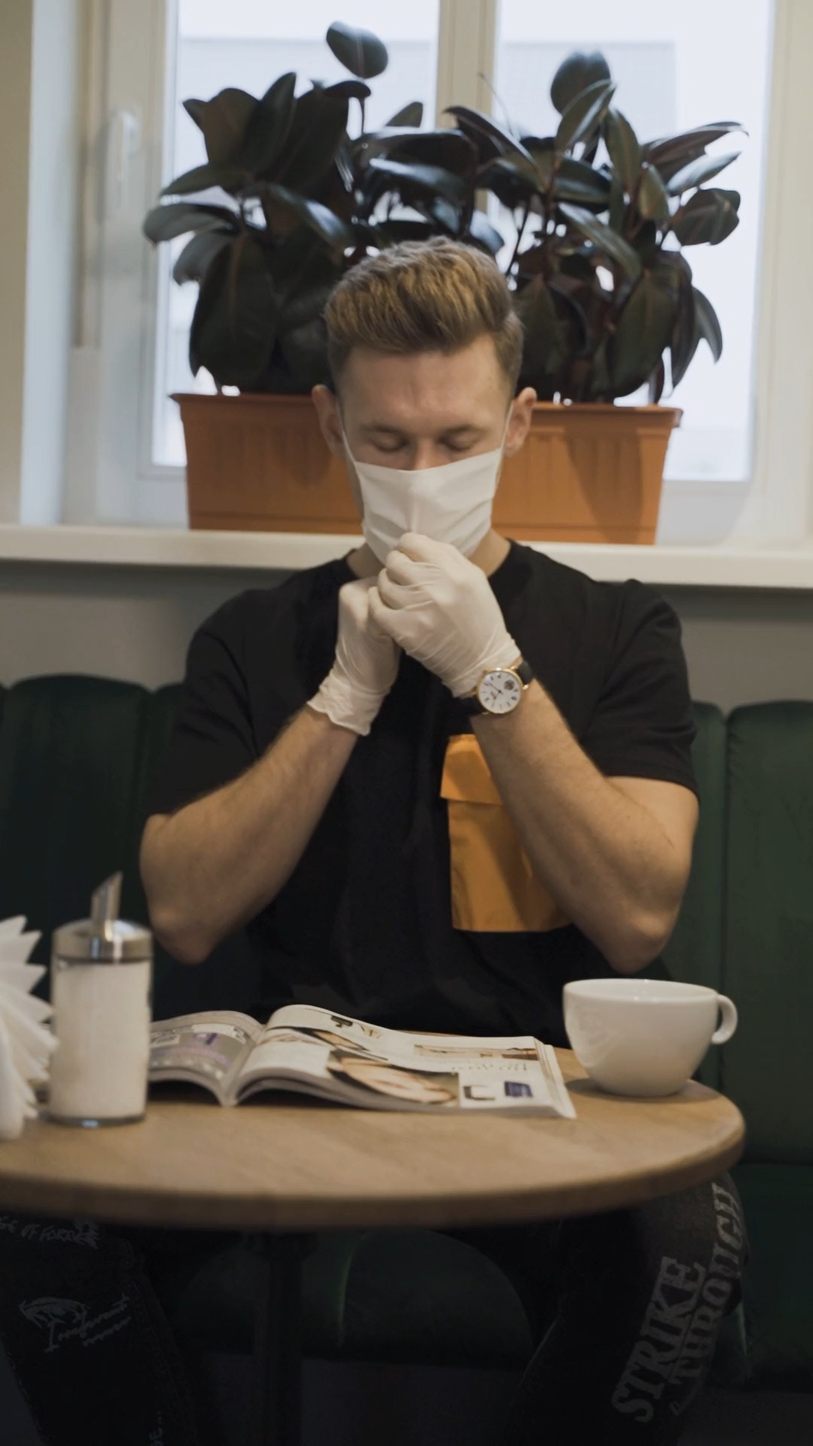gloves: (370, 522, 550, 705), (304, 565, 417, 738)
